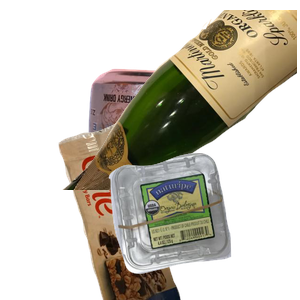glass: (60, 10, 300, 190)
metal: (82, 66, 270, 246)
plastic: (106, 151, 300, 300)
trash: (56, 120, 229, 300)
